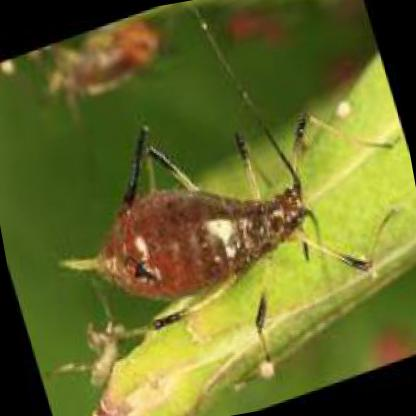uroleucon compositae: (59, 28, 321, 332)
